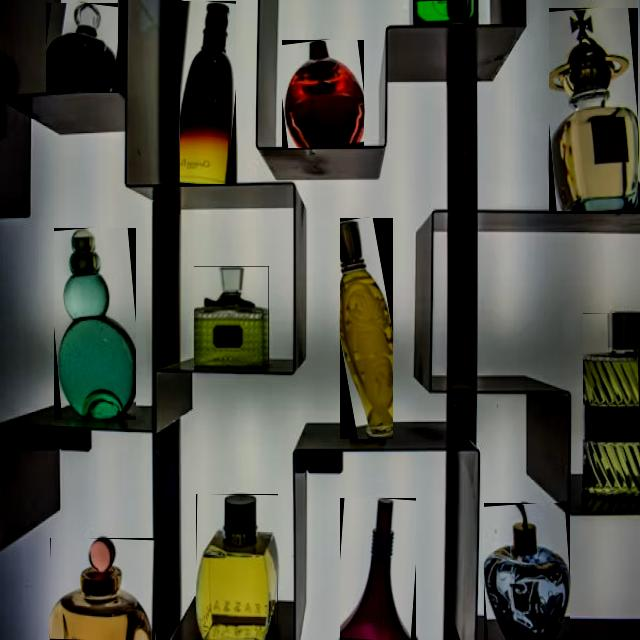Bottle: (549, 9, 636, 210), (54, 228, 134, 420), (195, 495, 277, 639), (484, 503, 568, 639), (340, 219, 391, 438), (340, 499, 415, 639), (50, 539, 153, 639), (583, 313, 639, 496), (180, 2, 234, 184), (282, 40, 362, 148), (194, 267, 267, 366), (45, 3, 117, 93), (412, 0, 476, 25)
